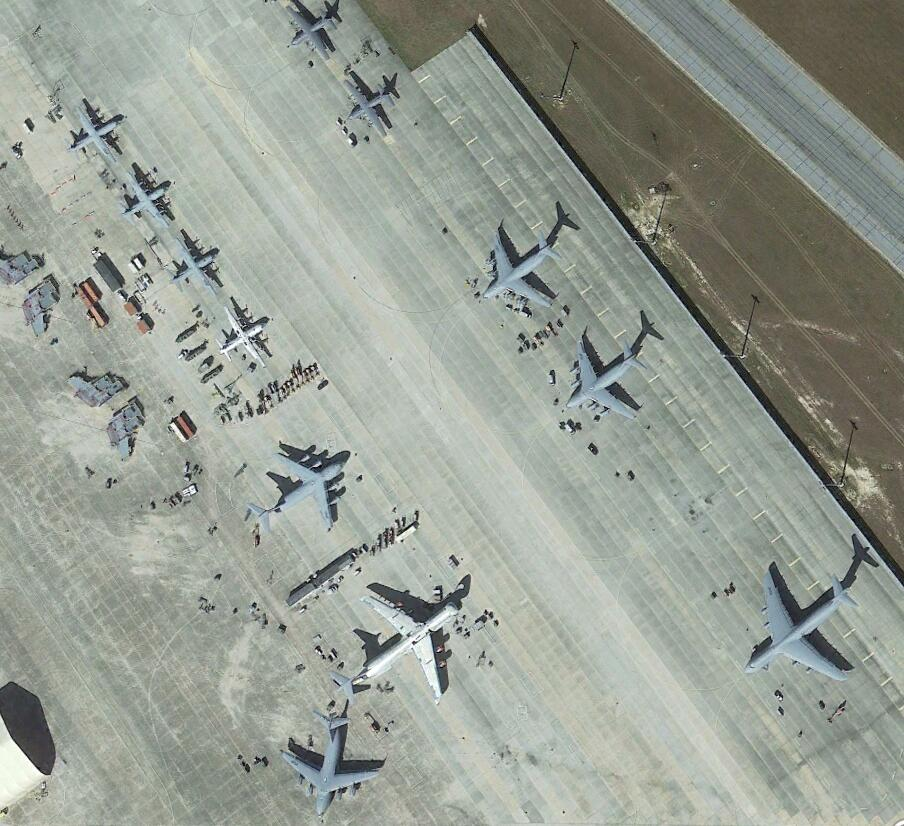A2: (216, 306, 275, 368), (340, 78, 397, 141), (67, 105, 124, 165), (283, 4, 339, 64), (116, 170, 172, 230), (171, 237, 221, 296)
A3: (281, 709, 381, 817), (242, 452, 352, 539), (480, 230, 564, 312), (564, 340, 647, 422)
A4: (328, 590, 459, 703), (743, 569, 860, 688)
